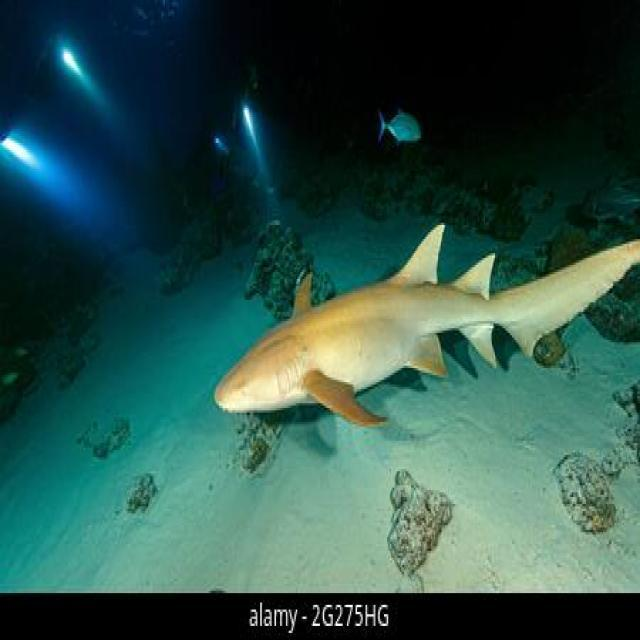Shark: (189, 154, 640, 464)
